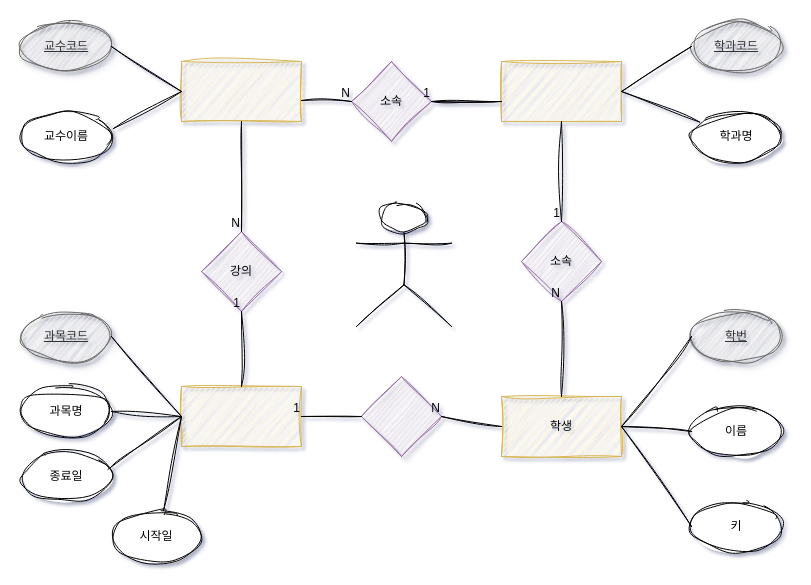
Image size: 811x585. Some labels were removed from this diagram. Each missing label, with the centre of its shape:
Actor: the point at 404,263
과목: the point at 241,416
교수: the point at 241,91
수강: the point at 401,416
학과: the point at 561,91
